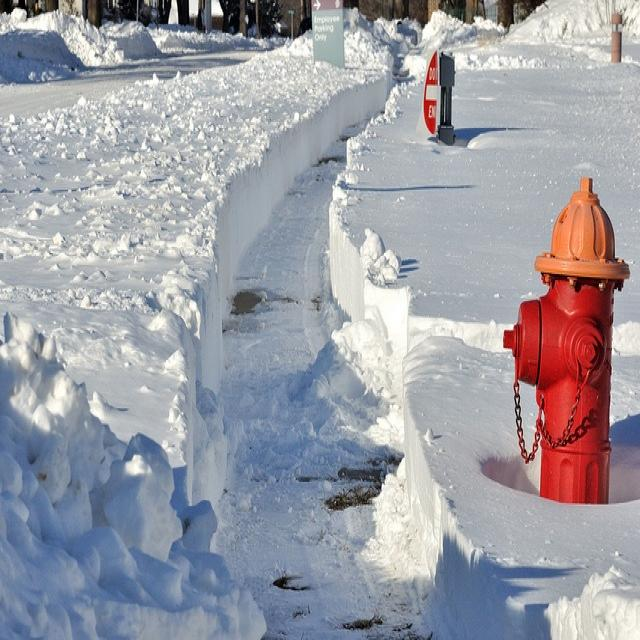fire_hydrant: (505, 180, 626, 504)
